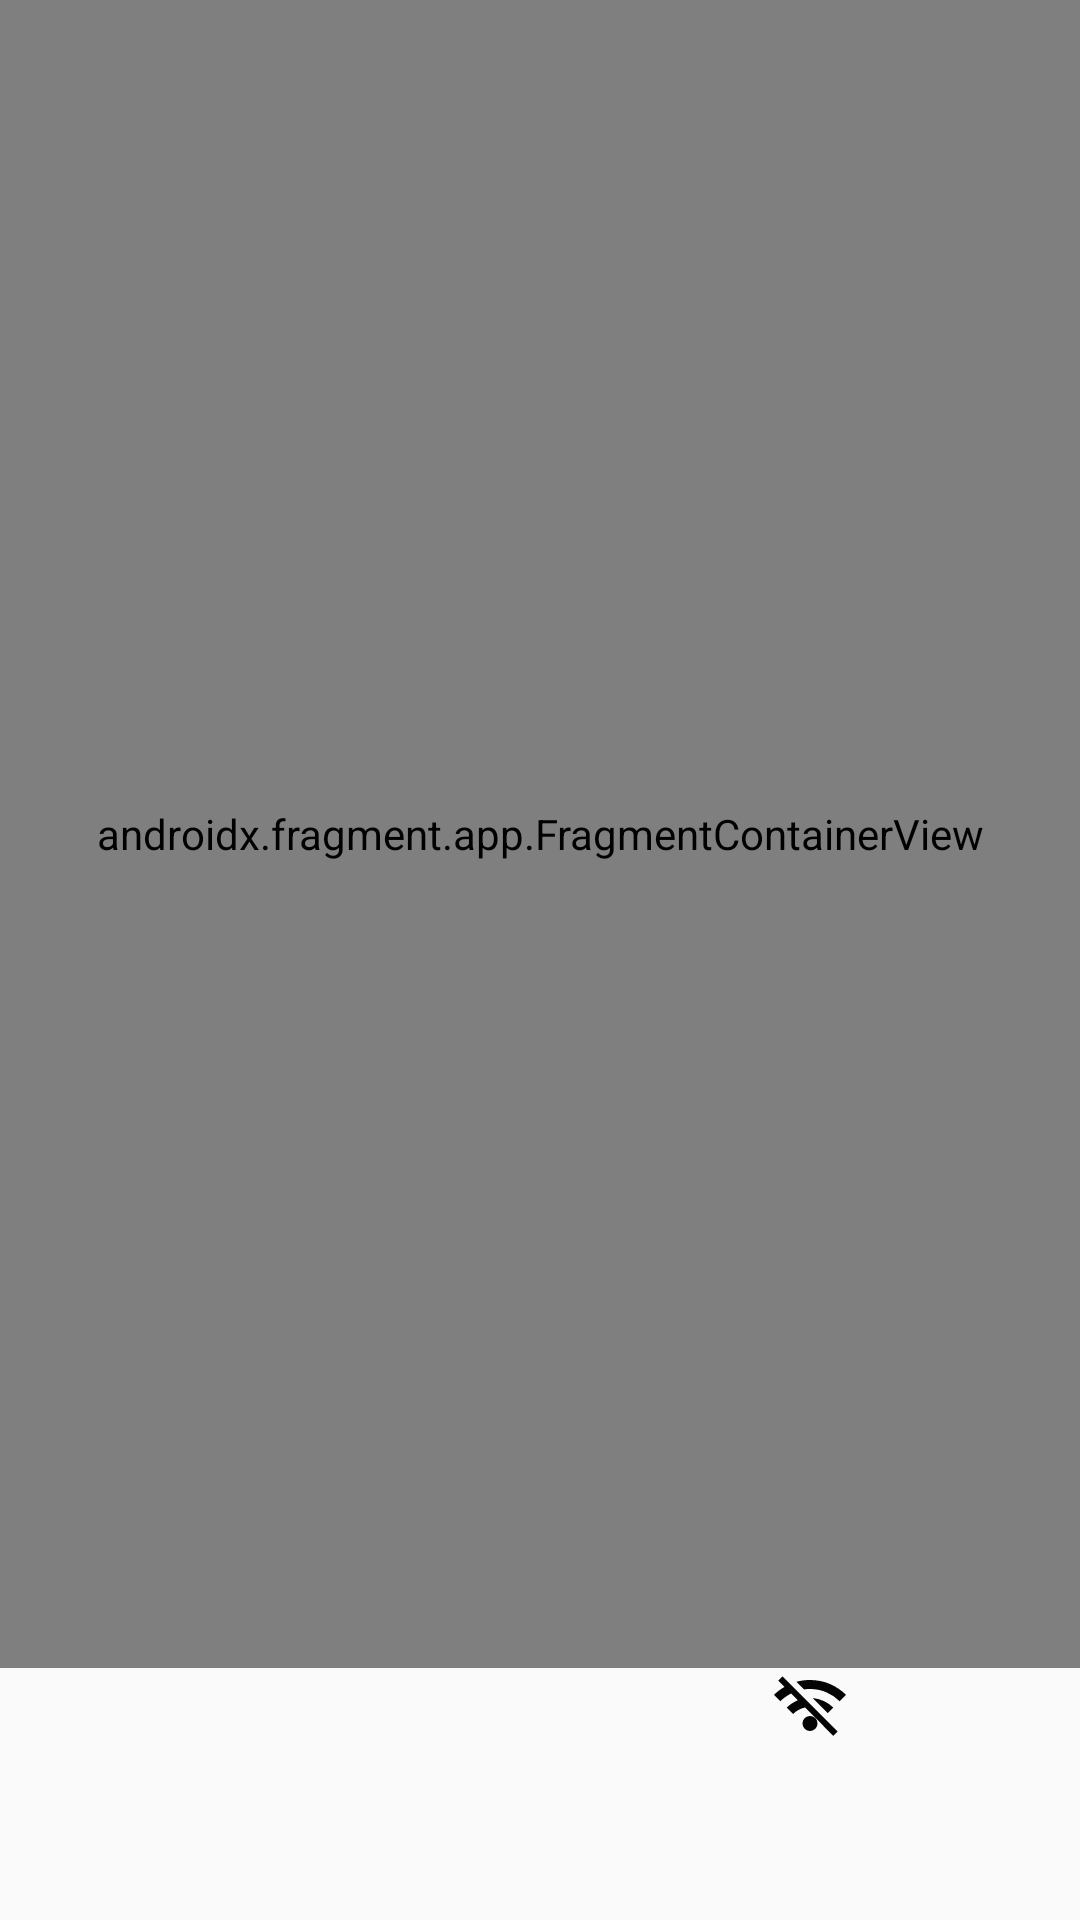

Icons on this 1080px x 1920px Android screen, each with the point to tap as point (x, y):
offline: point (810, 1706)
